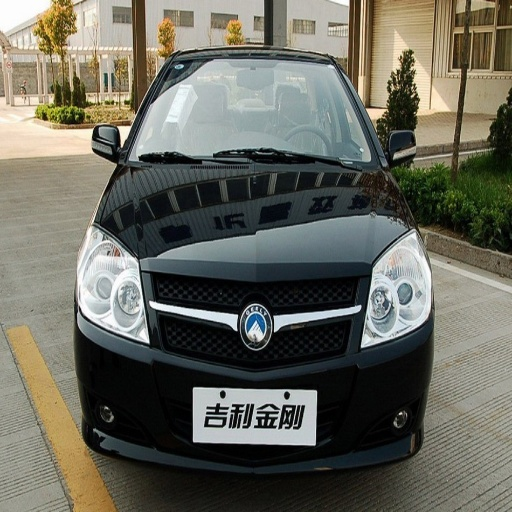front_bumper: (78, 271, 430, 475)
front_right_light: (81, 223, 150, 344)
hood: (103, 162, 409, 281)
